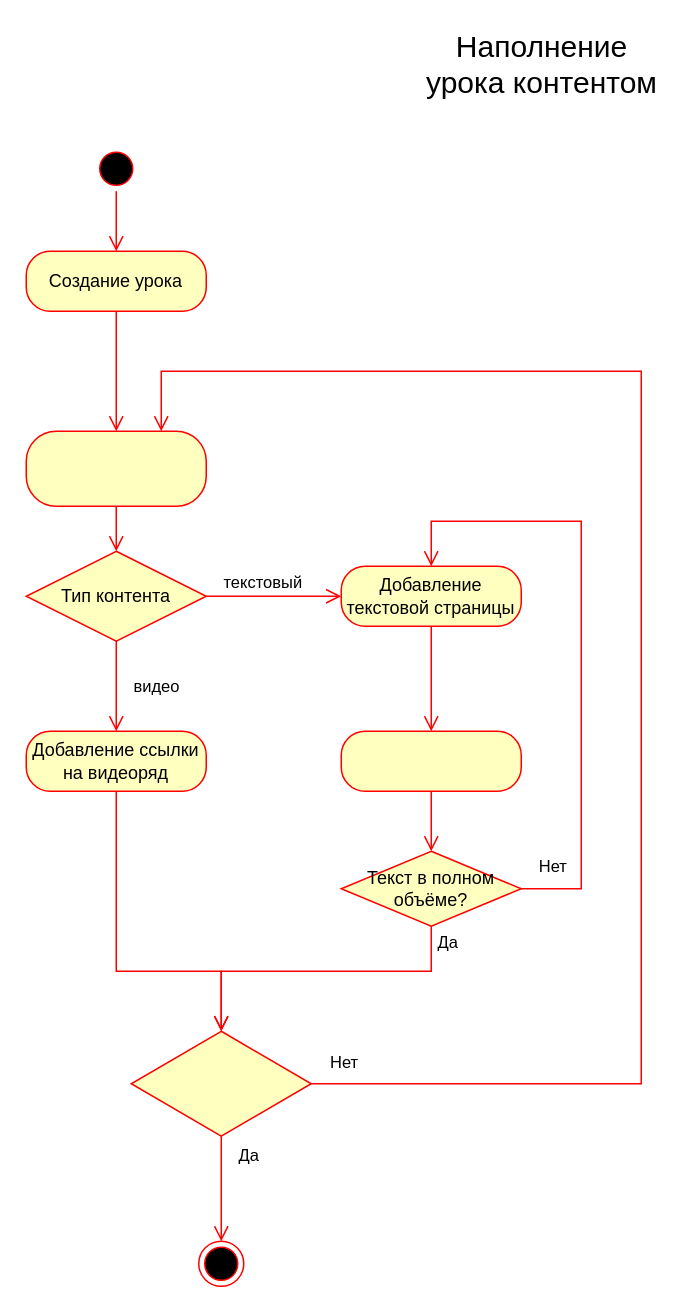
Some shapes in this 689 by 1313 pixel diagram are drawn without their labels. Here are the shapes that lost their labels. From the top down, the centre of each, then its label:
At [115,468]: "Выбор добавляемого контента".
At [430,760]: "Ввод текстовой информации".
At [220,1083]: "Информация в полном объёме?".
